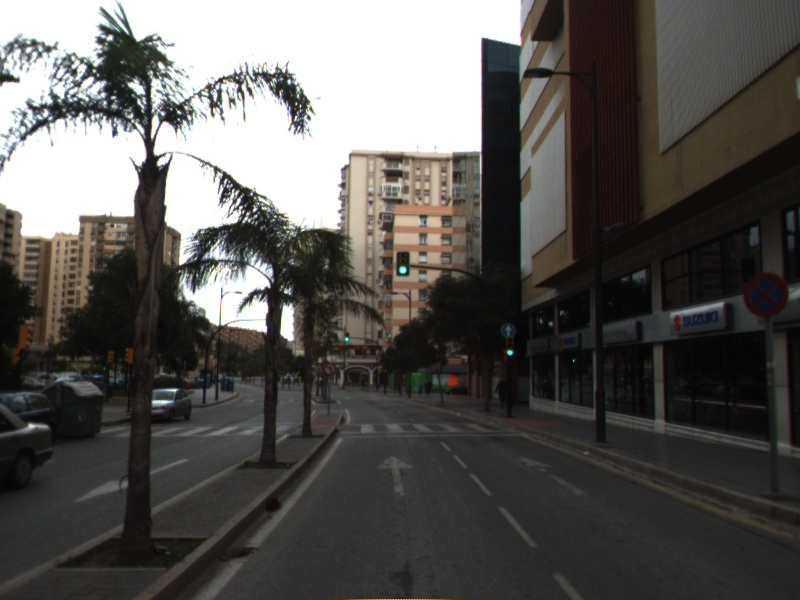STRAIGHT: (515, 453, 591, 497), (373, 453, 417, 500)
